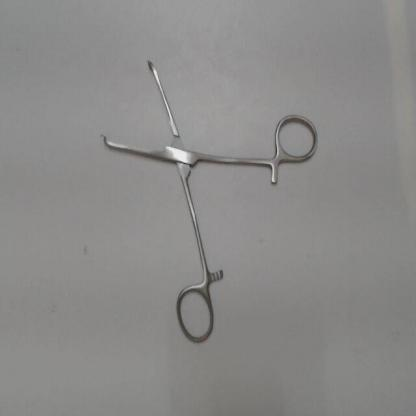Allis Tissue Forceps: (93, 46, 324, 354)
